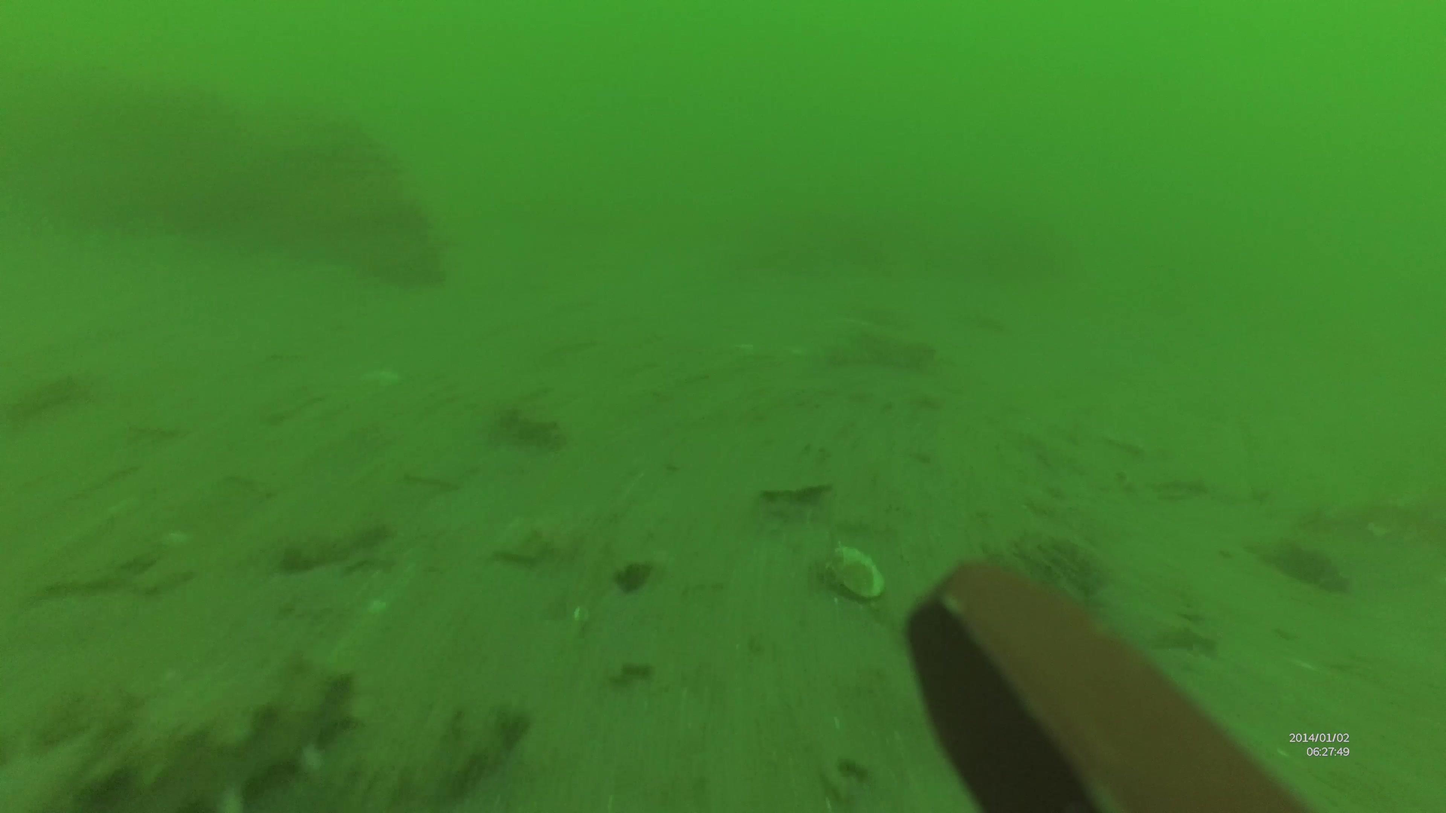echinus: (0, 632, 363, 811)
